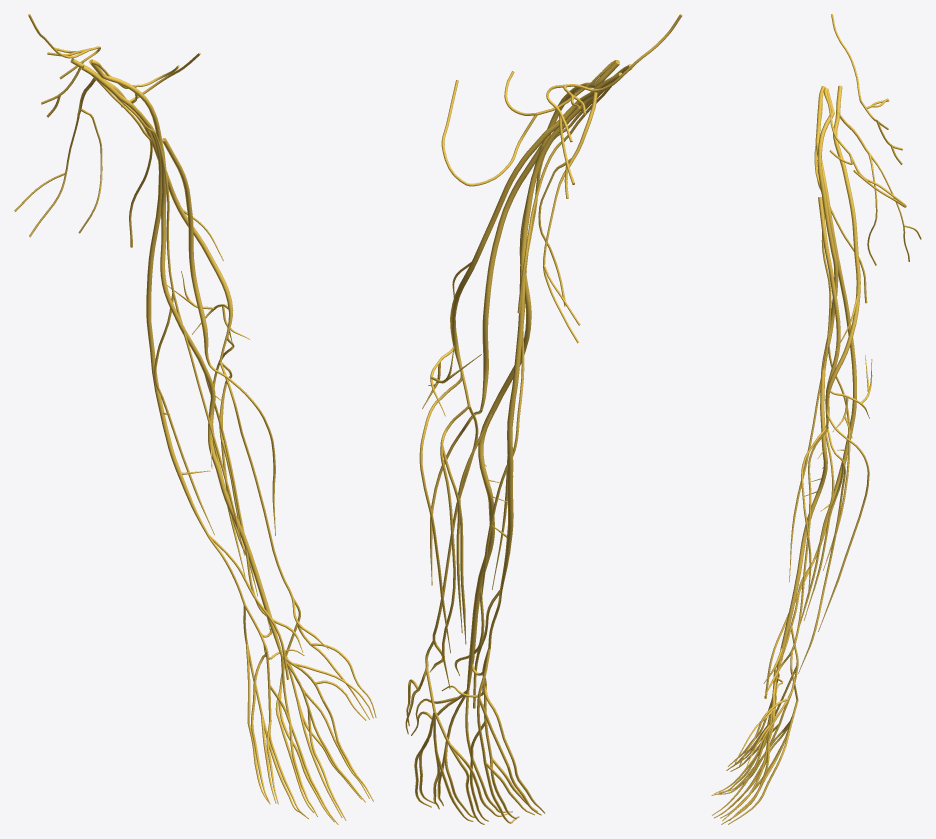
Rendered from nervous_peripheral.upper_limb_left.glb.
3 views of the same model, side by side, from view 1: azimuth 30°, elevation 25°; view 2: azimuth 150°, elevation 25°; view 3: azimuth 270°, elevation 25° (orthographic). The views are drawn at different scales.
Visible parts, largest first — view 1: left_median_nerve, left_dorsal_digital_branches_of_radial_nerve, left_ulnar_nerve, left_proper_palmar_digital_branches_of_median_nerve, left_musculocutaneous_nerve, left_superficial_branch_of_radial_nerve, left_radial_nerve, left_thoracodorsal_nerve, left_proper_palmar_digital_branches_of_ulnar_nerve, left_suprascapular_nerve, left_dorsal_digital_branches_of_ulnar_nerve, left_anterior_branch_of_medial_antebrachial_cutaneous_nerve (+1 smaller); view 2: left_ulnar_nerve, left_median_nerve, left_radial_nerve, left_dorsal_digital_branches_of_radial_nerve, left_musculocutaneous_nerve, left_thoracodorsal_nerve, left_proper_palmar_digital_branches_of_median_nerve, left_suprascapular_nerve, left_superficial_branch_of_radial_nerve, left_posterior_antebrachial_cutaneous_nerve, left_deep_branch_of_radial_nerve, left_proper_palmar_digital_branches_of_ulnar_nerve (+10 smaller); view 3: left_median_nerve, left_ulnar_nerve, left_radial_nerve, left_dorsal_digital_branches_of_radial_nerve, left_proper_palmar_digital_branches_of_median_nerve, left_musculocutaneous_nerve, left_superficial_branch_of_radial_nerve, left_thoracodorsal_nerve, left_deep_branch_of_radial_nerve, left_posterior_antebrachial_cutaneous_nerve, left_suprascapular_nerve, left_anterior_branch_of_medial_antebrachial_cutaneous_nerve (+7 smaller).
Boxes of the visible parts, box(x1,y1,x2,y2) form: left_median_nerve: box(158, 137, 282, 656); left_dorsal_digital_branches_of_radial_nerve: box(275, 643, 376, 822); left_ulnar_nerve: box(146, 139, 245, 605); left_proper_palmar_digital_branches_of_median_nerve: box(289, 662, 373, 824); left_musculocutaneous_nerve: box(161, 138, 210, 364); left_superficial_branch_of_radial_nerve: box(219, 362, 328, 656); left_radial_nerve: box(98, 74, 233, 361); left_thoracodorsal_nerve: box(14, 78, 102, 237); left_proper_palmar_digital_branches_of_ulnar_nerve: box(251, 653, 308, 818); left_suprascapular_nerve: box(28, 14, 100, 117); left_dorsal_digital_branches_of_ulnar_nerve: box(248, 715, 303, 815); left_anterior_branch_of_medial_antebrachial_cutaneous_nerve: box(173, 293, 244, 555); left_ulnar_nerve: box(488, 145, 545, 648); left_median_nerve: box(466, 144, 542, 691); left_radial_nerve: box(450, 89, 594, 406); left_dorsal_digital_branches_of_radial_nerve: box(405, 679, 507, 824); left_musculocutaneous_nerve: box(480, 144, 541, 409); left_thoracodorsal_nerve: box(538, 92, 597, 343); left_proper_palmar_digital_branches_of_median_nerve: box(411, 696, 512, 821); left_suprascapular_nerve: box(546, 14, 682, 198); left_superficial_branch_of_radial_nerve: box(417, 406, 478, 712); left_posterior_antebrachial_cutaneous_nerve: box(419, 373, 462, 653); left_deep_branch_of_radial_nerve: box(440, 406, 469, 688); left_proper_palmar_digital_branches_of_ulnar_nerve: box(484, 685, 545, 818); left_median_nerve: box(775, 193, 838, 681); left_ulnar_nerve: box(790, 191, 856, 626); left_radial_nerve: box(825, 113, 860, 429); left_dorsal_digital_branches_of_radial_nerve: box(718, 698, 798, 824); left_proper_palmar_digital_branches_of_median_nerve: box(711, 693, 774, 824); left_musculocutaneous_nerve: box(818, 197, 840, 423); left_superficial_branch_of_radial_nerve: box(764, 429, 826, 700); left_thoracodorsal_nerve: box(840, 114, 921, 265); left_deep_branch_of_radial_nerve: box(798, 429, 845, 673); left_posterior_antebrachial_cutaneous_nerve: box(818, 409, 869, 631); left_suprascapular_nerve: box(831, 14, 902, 164); left_anterior_branch_of_medial_antebrachial_cutaneous_nerve: box(789, 341, 828, 582).
Bounding box in the file's own units: 0.2726 × 0.7241 × 0.1964.
